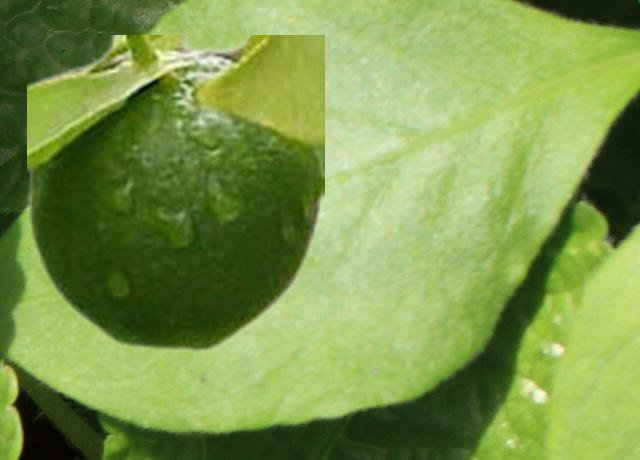dalandan: (27, 35, 323, 350)
